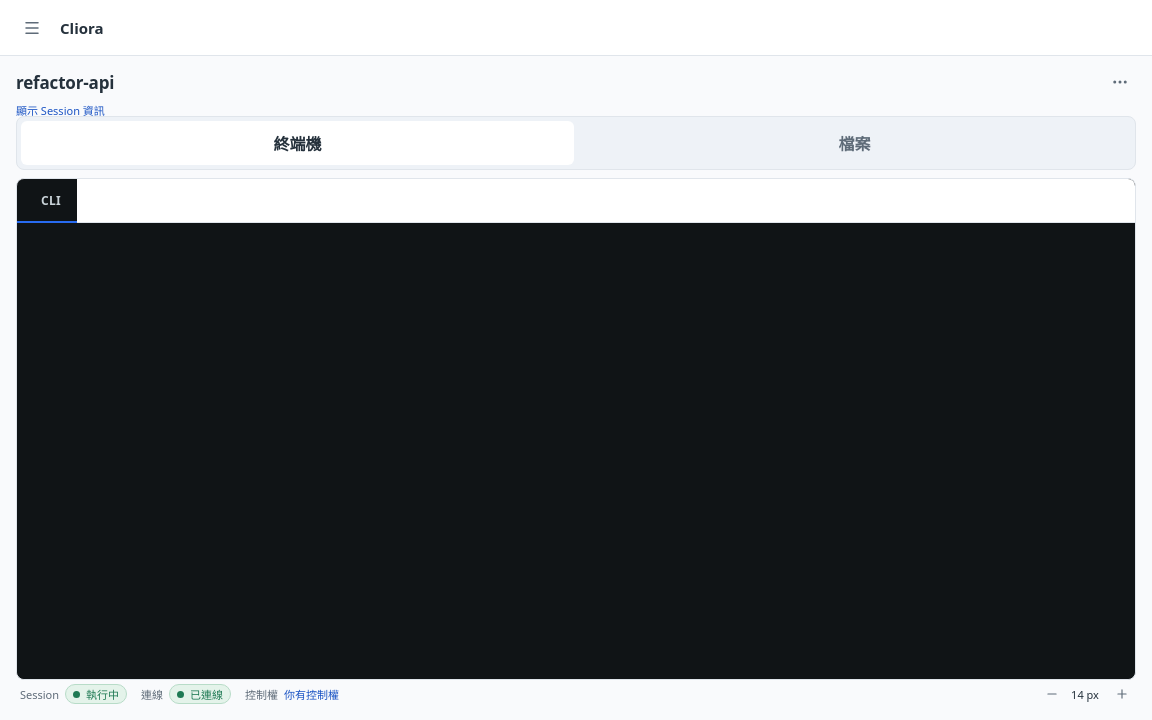
Test: SessionWorkspaceView — 手機上的檔案（#76） › 沒有 can_browse_files：手機檔案分頁說明權限，不發請求
The width and height of the screenshot is (1152, 720).
Click the tab "檔案" at (854, 143), box [578,121,1131,165]
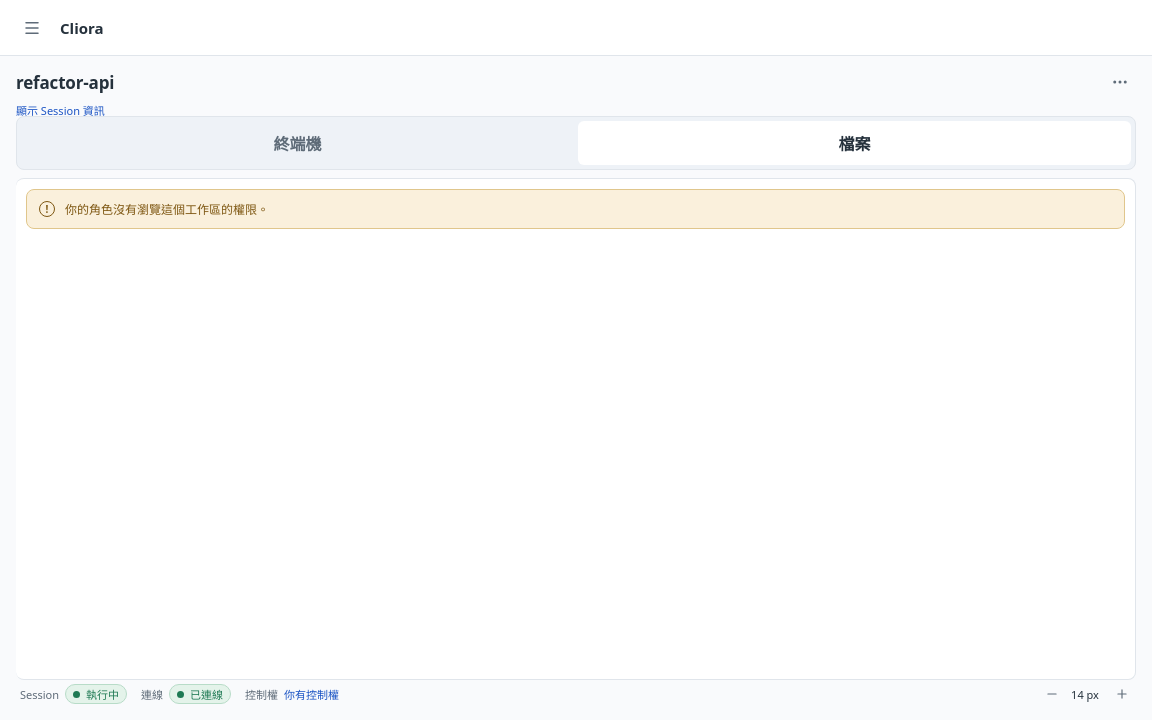
Expected: the element with id "file-panel" shows "沒有瀏覽", [65,201,269,218]
